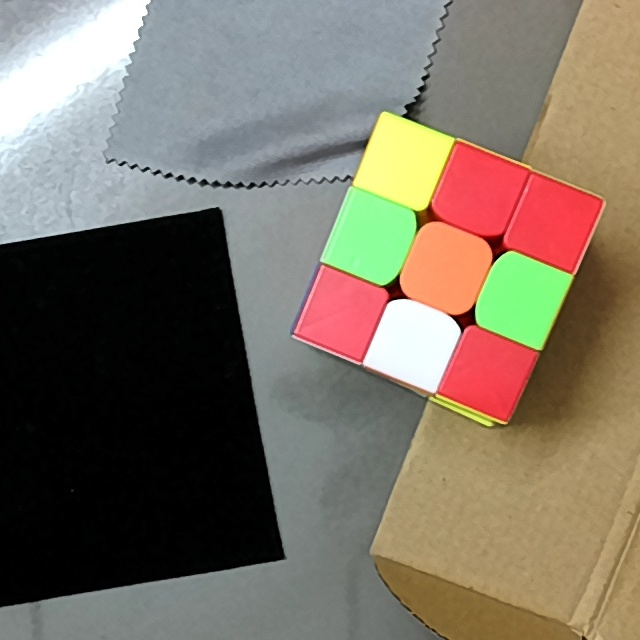tile: (494, 267, 550, 326), (452, 161, 509, 218), (343, 210, 400, 267), (526, 196, 582, 254), (376, 131, 432, 188), (418, 241, 474, 297), (312, 290, 372, 338), (463, 349, 517, 400), (385, 317, 439, 367)
